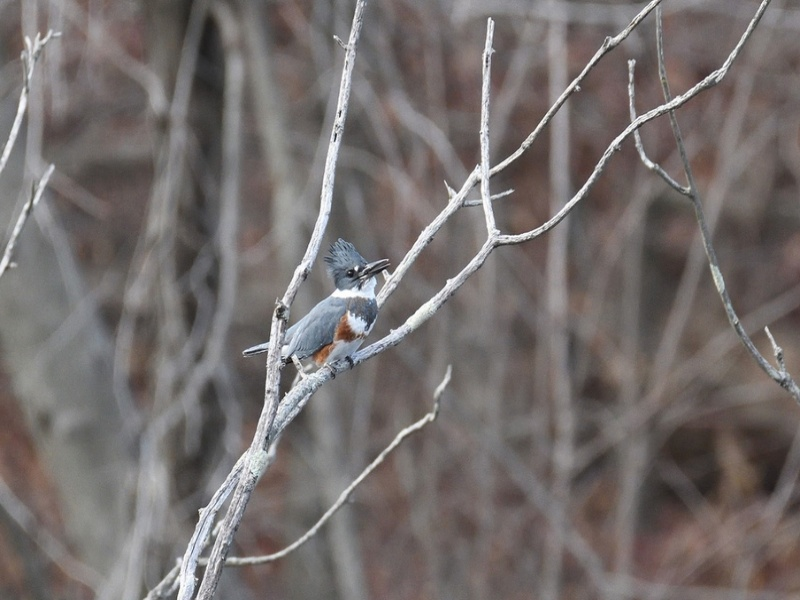kingfisher: (229, 234, 391, 409)
